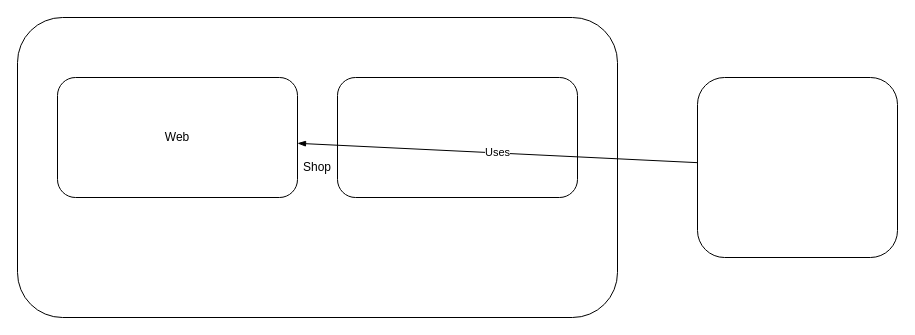
Some shapes in this 915 by 335 pixel diagram are drawn without their labels. Each missing label, with the centre of its shape:
"Orders queue" goes at (457,137).
"User" goes at (797,167).
